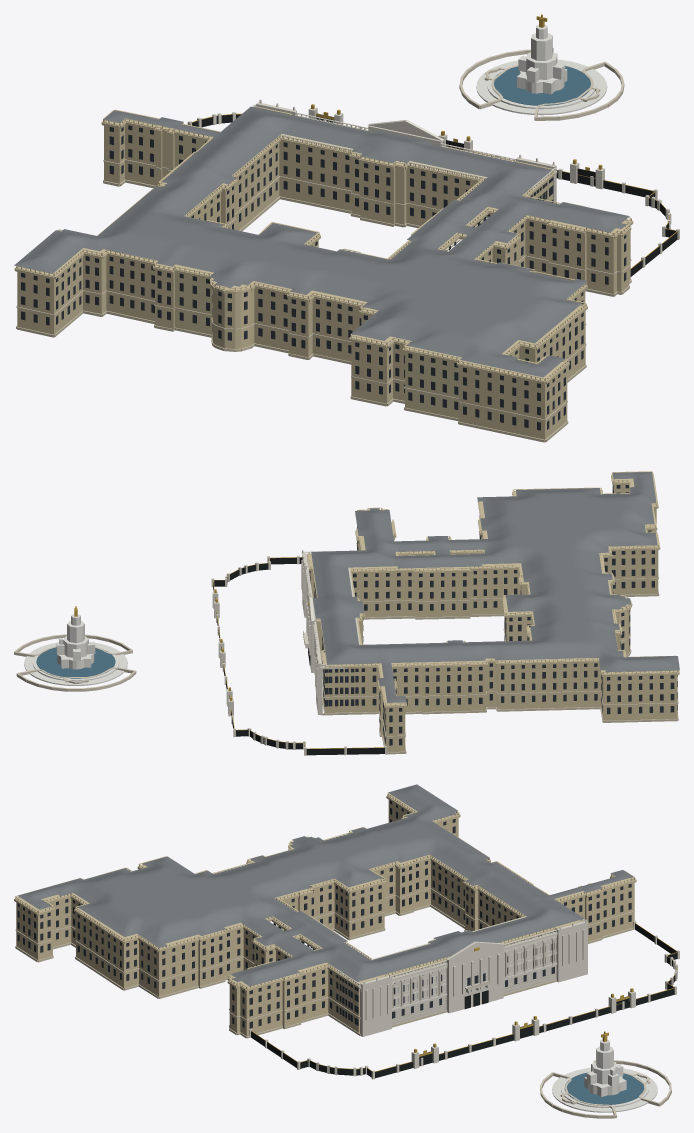
File: buckingham-site.glb
3 views of the same model, one above another, from view 1: azimuth 30°, elevation 25°; view 2: azimuth 150°, elevation 25°; view 3: azimuth 270°, elevation 25° (orthographic). The views are drawn at different scales.
Size of the model in its own units: 265 by 27.71 by 264.
